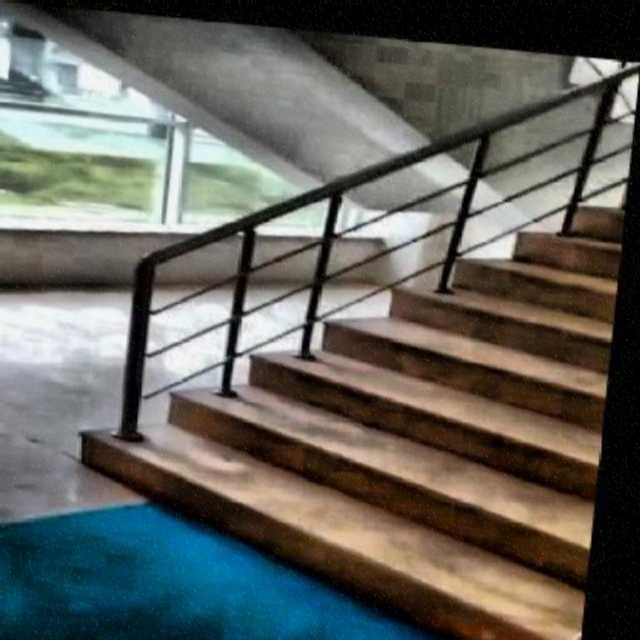stair: (55, 120, 630, 638)
